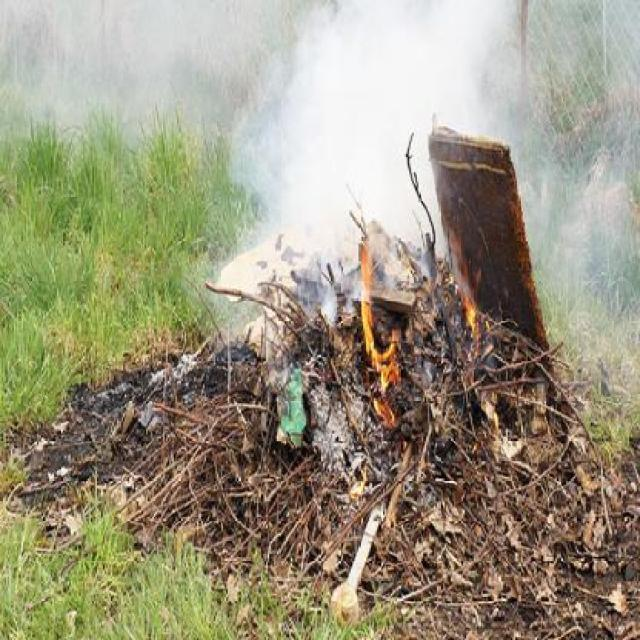Smoke: (226, 0, 436, 248)
